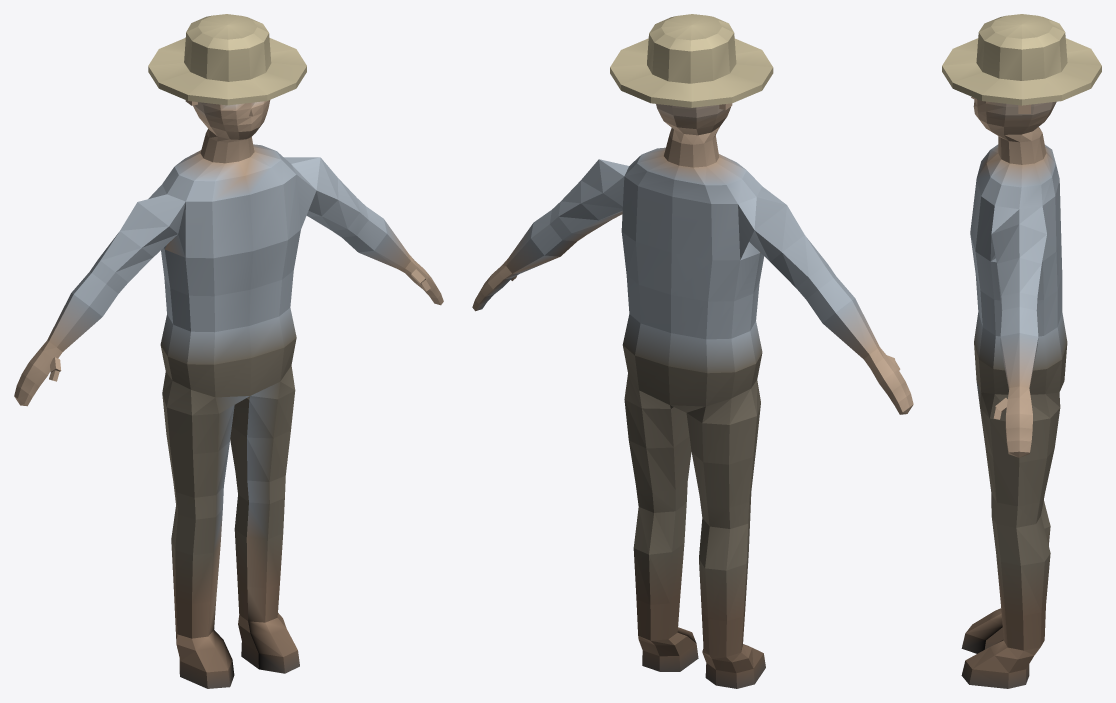
File: char__pessoa__multidao_03.glb
The picture shows the model from 3 angles, left to right: view 1: azimuth 30°, elevation 25°; view 2: azimuth 150°, elevation 25°; view 3: azimuth 270°, elevation 25°; orthographic projection. The views are drawn at different scales.
Visible parts, largest first — view 1: char__pessoa__multidao_03; view 2: char__pessoa__multidao_03; view 3: char__pessoa__multidao_03.
Boxes of the visible parts, x1,y1,x2,y2 form: char__pessoa__multidao_03: (14,14,443,688); char__pessoa__multidao_03: (472,14,913,688); char__pessoa__multidao_03: (942,14,1101,688).
Size of the model in its own units: 1.22 by 1.75 by 0.3964.
